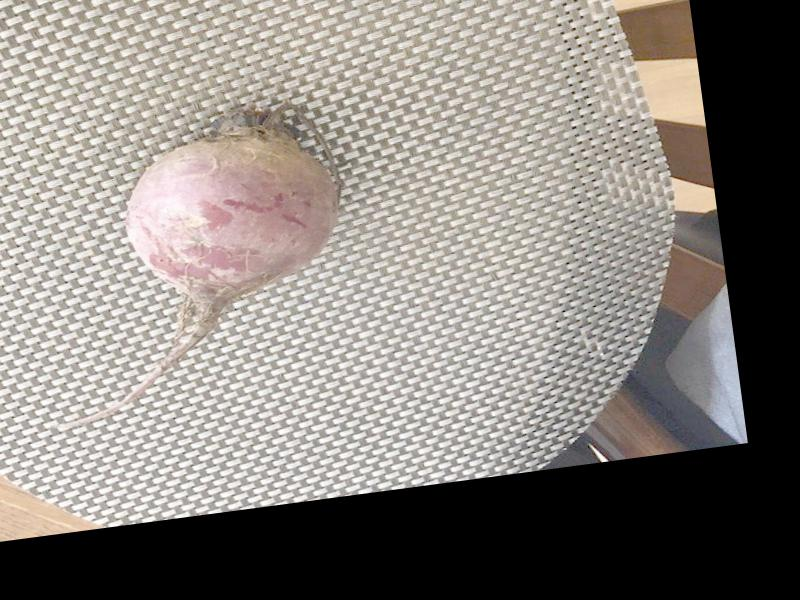Beet: (19, 94, 365, 431)
